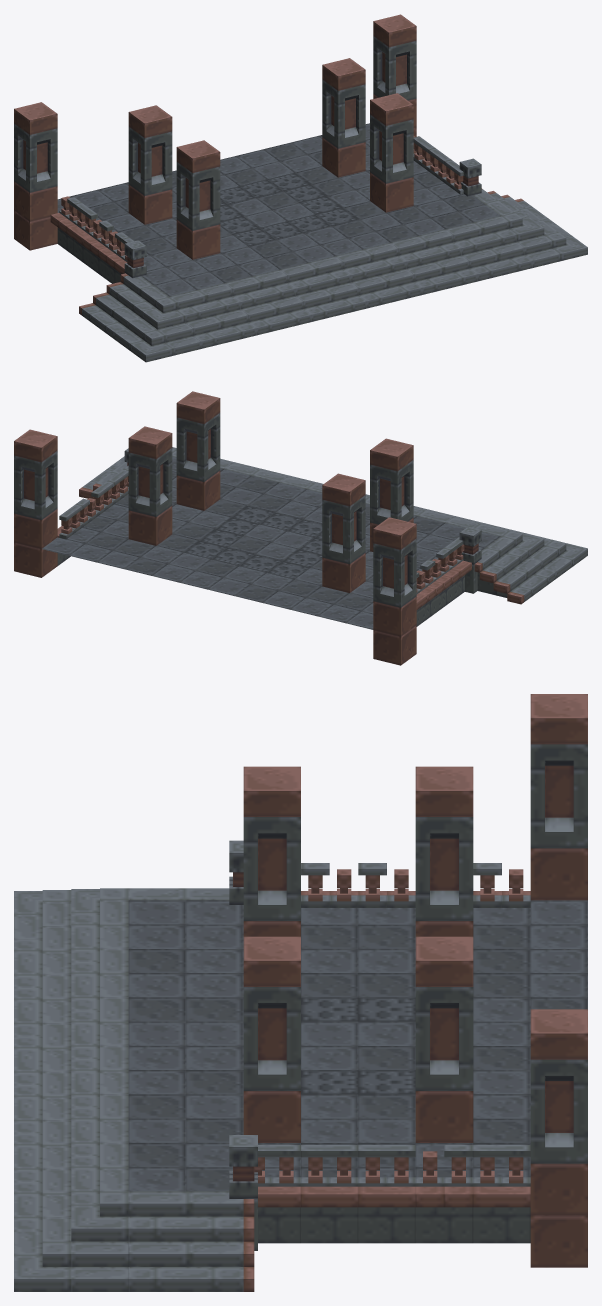
The model's file is floor_element_6_red.fbx.
The picture shows the model from 3 angles, top to bottom: view 1: azimuth 30°, elevation 25°; view 2: azimuth 150°, elevation 25°; view 3: azimuth 270°, elevation 25°; orthographic projection. The views are drawn at different scales.
Parts seen in each view (by area): view 1: floor_element_6_red; view 2: floor_element_6_red; view 3: floor_element_6_red.
Part boxes in pixels (x1=…): floor_element_6_red: x1=14, y1=14, x2=587, y2=362; floor_element_6_red: x1=14, y1=391, x2=587, y2=665; floor_element_6_red: x1=14, y1=694, x2=587, y2=1291.
Bounding box in the file's own units: 256 × 72 × 160.
